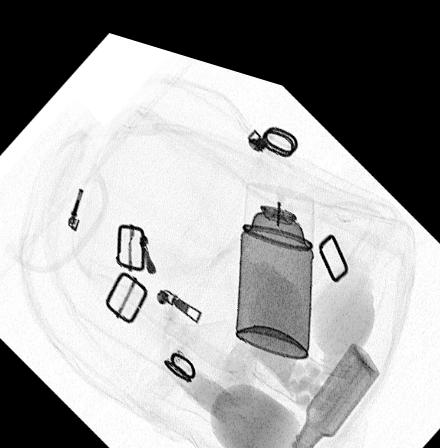Sprayer: (237, 167, 316, 342)
